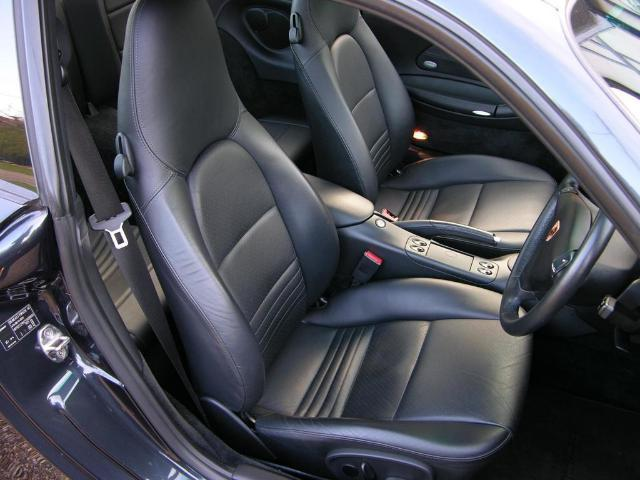Seatbelt: (62, 82, 206, 424)
